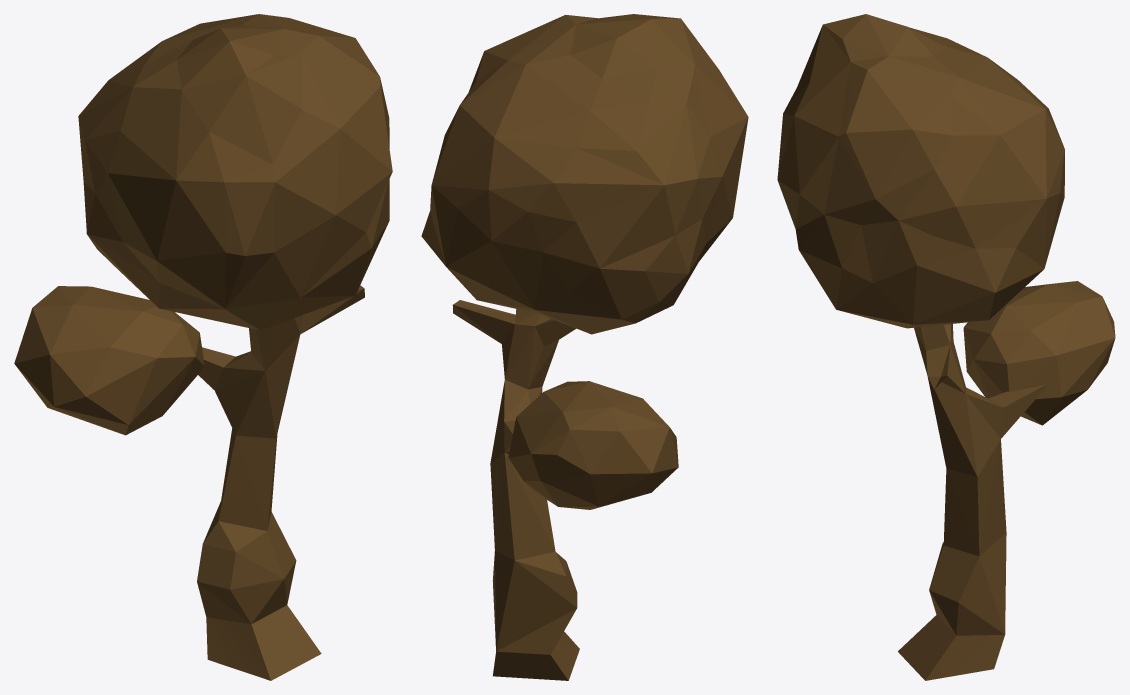
Rendered from Small_Tree_02.fbx.
The picture shows the model from 3 angles, left to right: view 1: azimuth 30°, elevation 25°; view 2: azimuth 150°, elevation 25°; view 3: azimuth 270°, elevation 25°; orthographic projection. The views are drawn at different scales.
Parts seen in each view (by area): view 1: Tree1.001; view 2: Tree1.001; view 3: Tree1.001.
Part boxes in pixels (box(x1,y1,x2,y2)): Tree1.001: box(14, 14, 392, 680); Tree1.001: box(421, 14, 748, 680); Tree1.001: box(777, 14, 1115, 680).
Size of the model in its own units: 1099 by 2496 by 1251.
